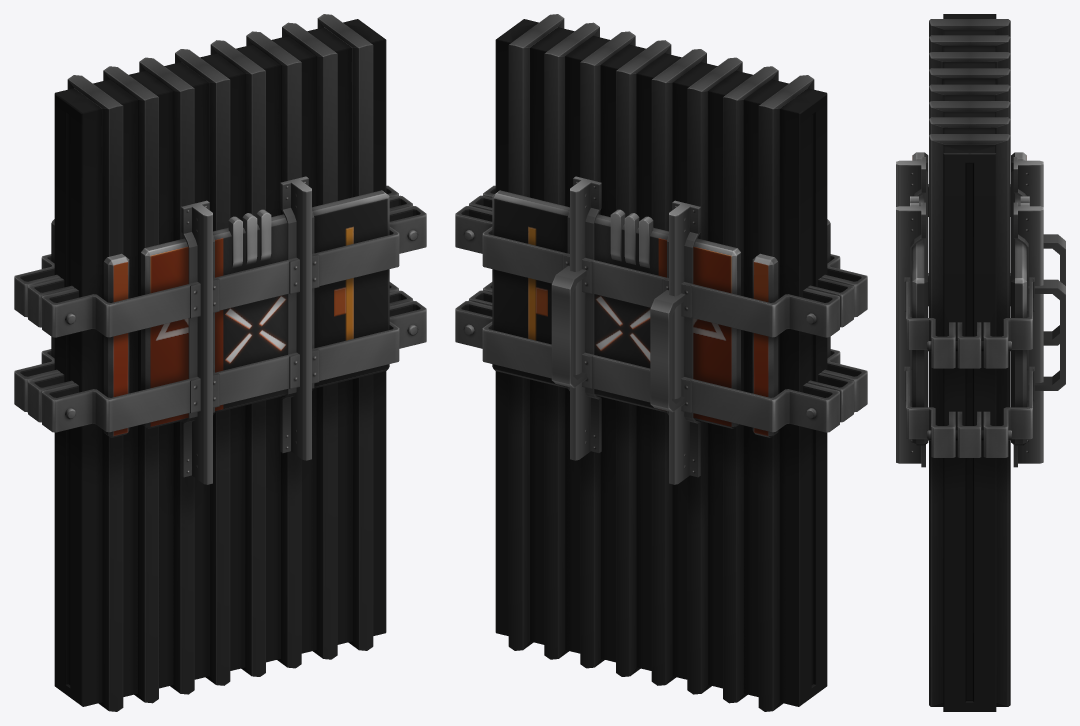
The model's file is saria_shield.fbx.
3 renders of one model, left to right at view 1: azimuth 30°, elevation 25°; view 2: azimuth 150°, elevation 25°; view 3: azimuth 270°, elevation 25°, orthographic. The views are drawn at different scales.
Visible parts, largest first — view 1: shield; view 2: shield; view 3: shield.
Part boxes in pixels (box(x1,y1,x2,y2)): shield: box(14, 14, 426, 711); shield: box(455, 14, 867, 711); shield: box(896, 14, 1065, 711).
Bounding box in the file's own units: 69.6 × 108 × 29.08.
